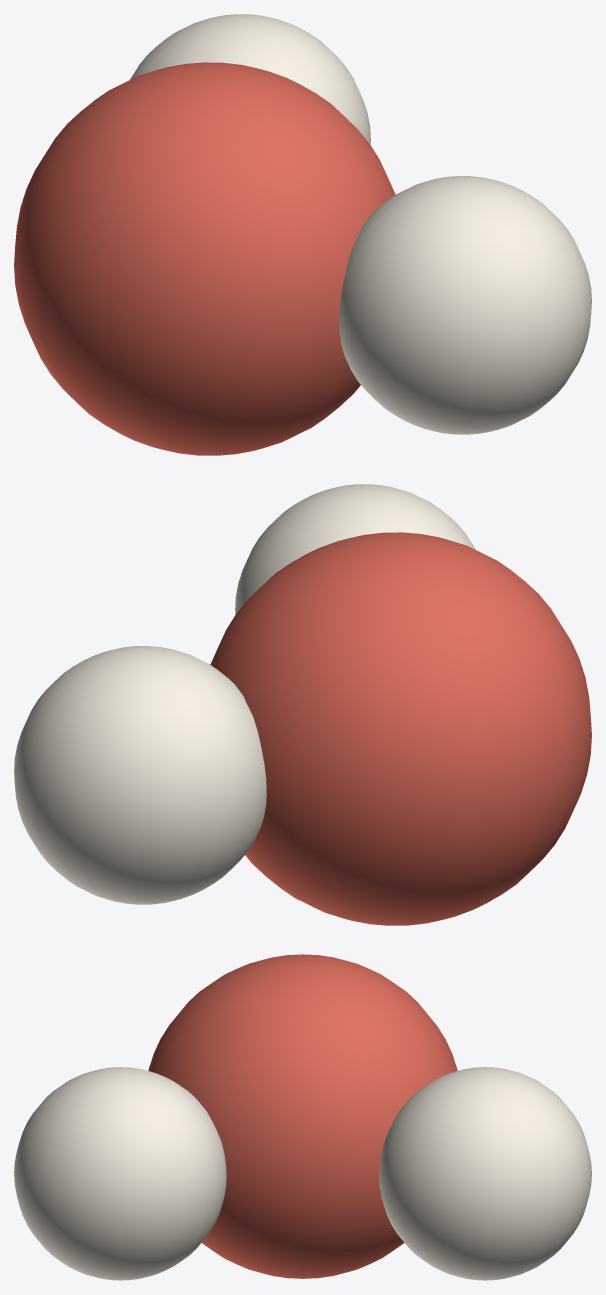
The model's file is water.glb.
3 views of the same model, one above another, from view 1: azimuth 30°, elevation 25°; view 2: azimuth 150°, elevation 25°; view 3: azimuth 270°, elevation 25° (orthographic). The views are drawn at different scales.
Visible parts, largest first — view 1: atom-O-0, atom-H-2, atom-H-1; view 2: atom-O-0, atom-H-1, atom-H-2; view 3: atom-O-0, atom-H-1, atom-H-2.
Boxes of the visible parts, x1,y1,x2,y2 form: atom-O-0: (14, 62, 395, 455); atom-H-2: (339, 176, 591, 434); atom-H-1: (130, 14, 370, 144); atom-O-0: (210, 532, 591, 925); atom-H-1: (14, 646, 266, 904); atom-H-2: (235, 484, 475, 614); atom-O-0: (148, 954, 457, 1278); atom-H-1: (379, 1067, 591, 1280); atom-H-2: (14, 1067, 226, 1280).
Bounding box in the file's own units: 0.9468 × 0.76 × 1.35.
